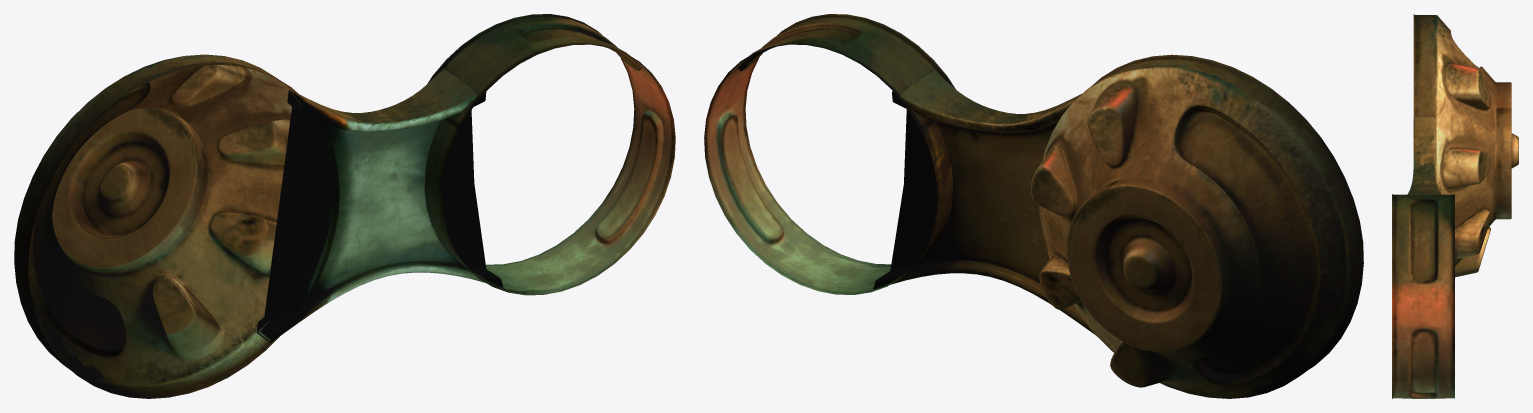
File: Brazo1CasaMobileSteampunk.obj
3 renders of one model, left to right at view 1: azimuth 30°, elevation 25°; view 2: azimuth 150°, elevation 25°; view 3: azimuth 270°, elevation 25°, orthographic. The views are drawn at different scales.
Parts seen in each view (by area): view 1: building_D_pipes.002_pipes_moving_baked; view 2: building_D_pipes.002_pipes_moving_baked; view 3: building_D_pipes.002_pipes_moving_baked.
Part boxes in pixels (box(x1,y1,x2,y2)): building_D_pipes.002_pipes_moving_baked: box(14, 14, 675, 398); building_D_pipes.002_pipes_moving_baked: box(704, 14, 1363, 398); building_D_pipes.002_pipes_moving_baked: box(1392, 14, 1518, 398).
Size of the model in its own units: 19.5 by 9.59 by 4.45.
